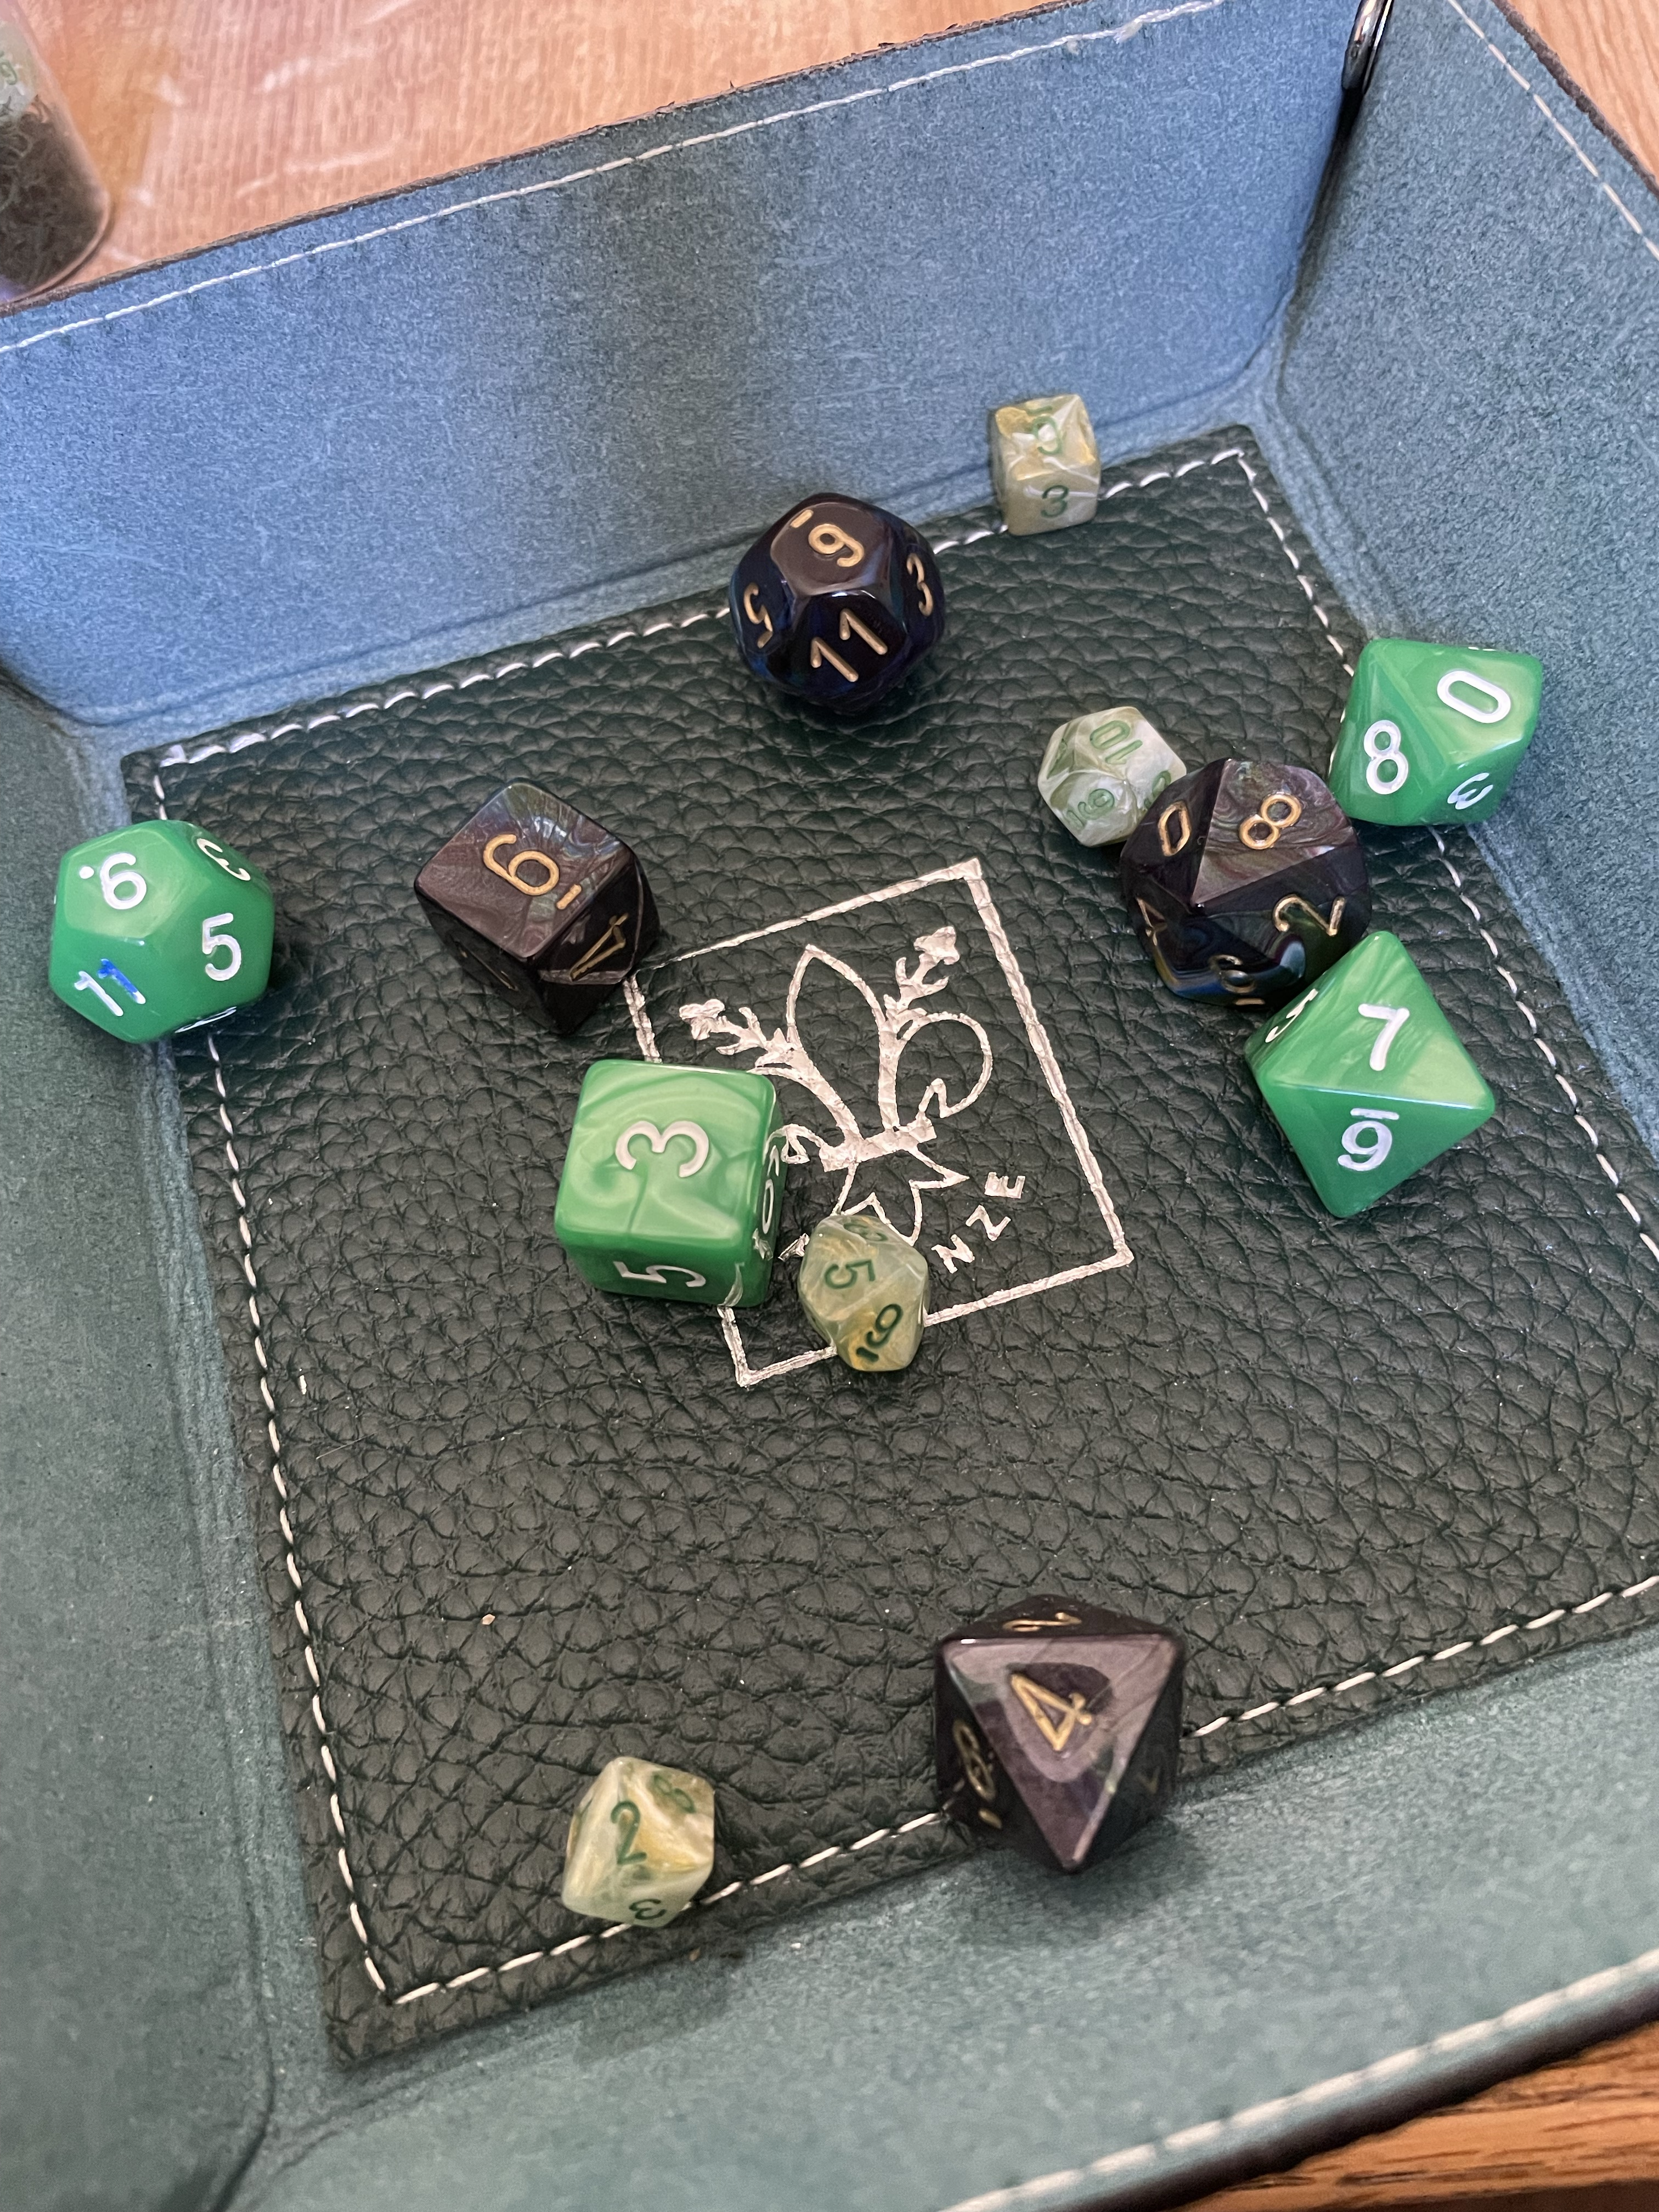eight: (1136, 735, 1377, 1035)
four: (873, 1578, 1243, 1898)
nine: (24, 786, 291, 1055)
seven: (1239, 911, 1520, 1237)
six: (378, 738, 697, 1071), (697, 442, 976, 740), (965, 364, 1133, 564)
ten: (1009, 683, 1182, 864)
three: (504, 1036, 802, 1308)
two: (525, 1740, 755, 1959)
zero: (1302, 617, 1582, 852)
